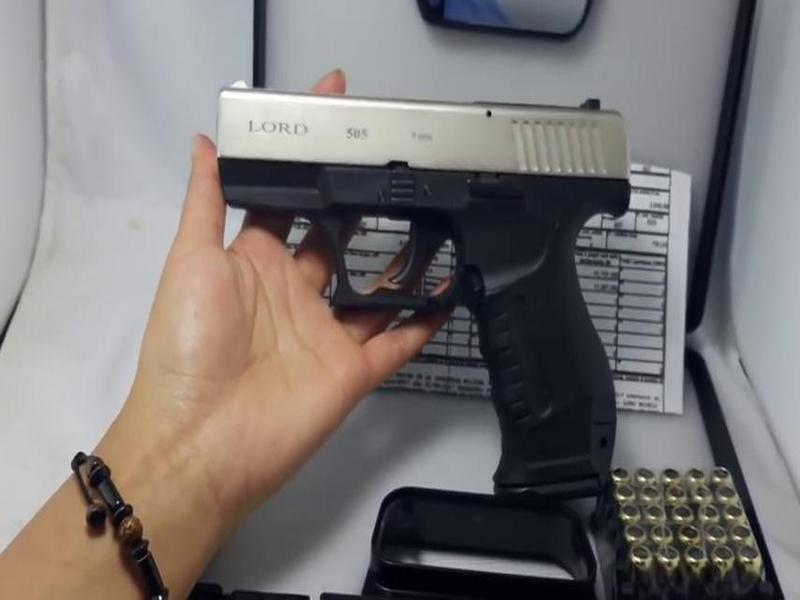Pistola: (179, 56, 672, 526)
